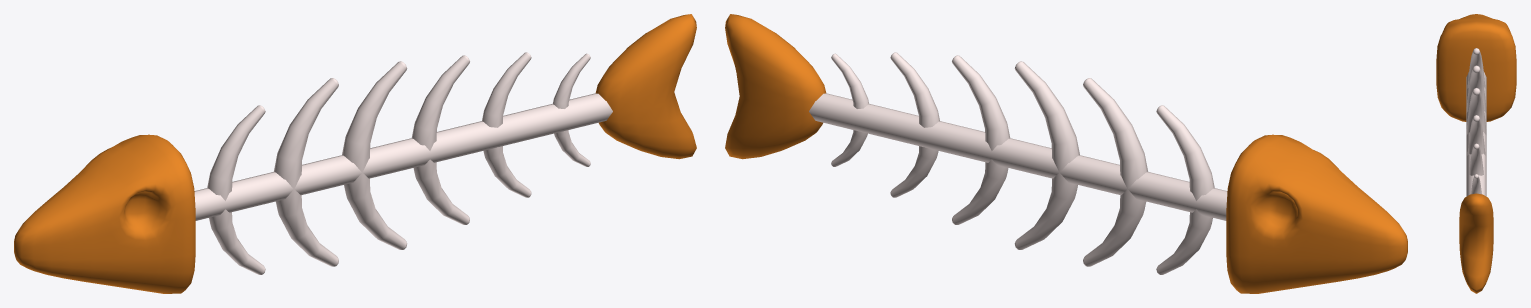
File: Skeleton_Fish_5.fbx
3 renders of one model, left to right at view 1: azimuth 30°, elevation 25°; view 2: azimuth 150°, elevation 25°; view 3: azimuth 270°, elevation 25°, orthographic. The views are drawn at different scales.
Parts seen in each view (by area): view 1: Skeleton_Fish_5; view 2: Skeleton_Fish_5; view 3: Skeleton_Fish_5.
Boxes of the visible parts, x1,y1,x2,y2 form: Skeleton_Fish_5: (14, 14, 696, 293); Skeleton_Fish_5: (725, 14, 1407, 293); Skeleton_Fish_5: (1436, 14, 1516, 293).
Size of the model in its own units: 74.92 by 19.78 by 11.38.
